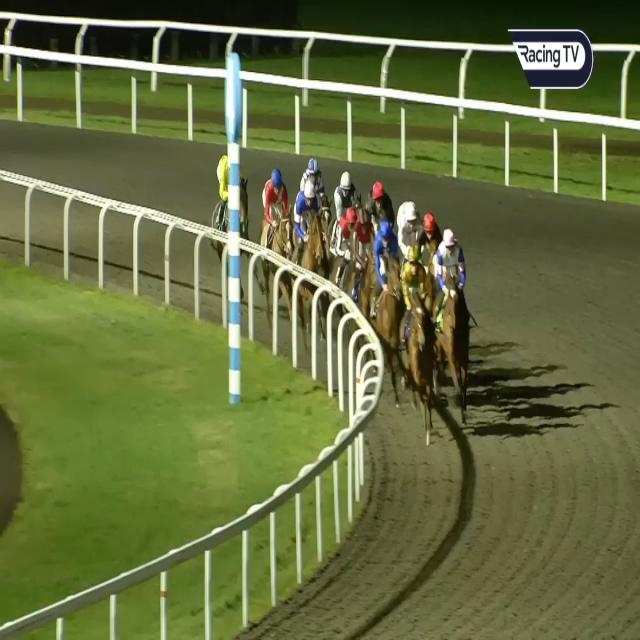horses-racing: (210, 151, 258, 274), (436, 230, 470, 386), (256, 165, 288, 324), (405, 245, 425, 442), (290, 174, 315, 318), (391, 198, 427, 278), (364, 219, 398, 297), (348, 203, 379, 287), (329, 201, 354, 287), (418, 206, 443, 286), (361, 180, 397, 232), (330, 170, 360, 213), (298, 154, 329, 194)
